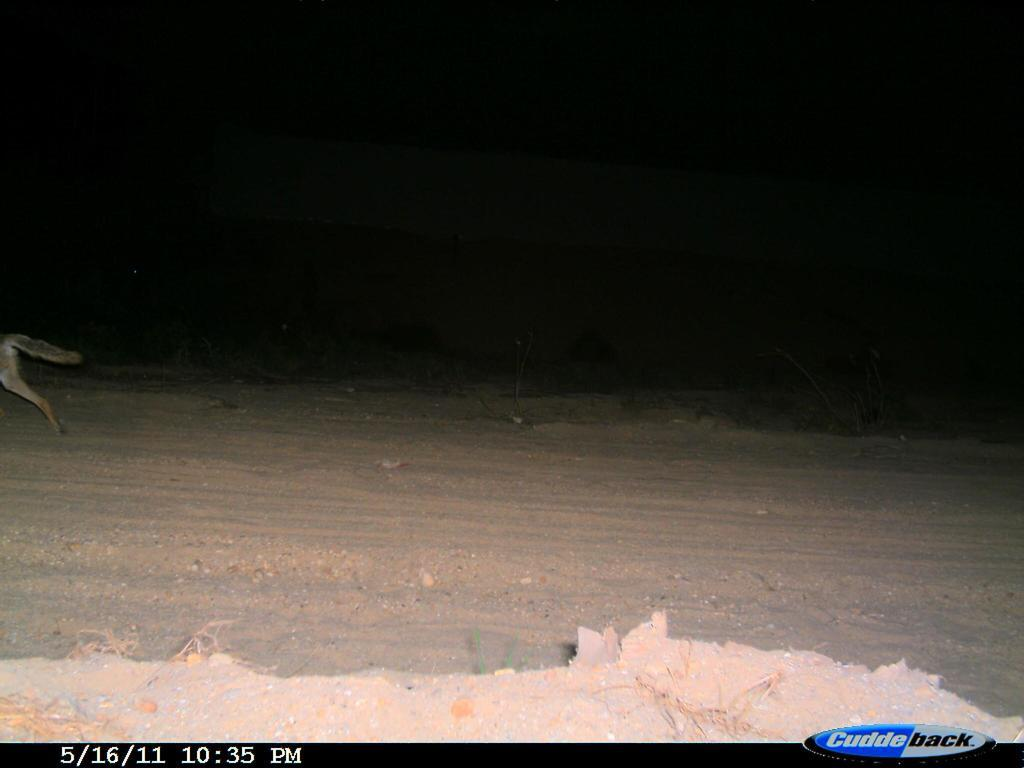coyote: (1, 323, 90, 445)
